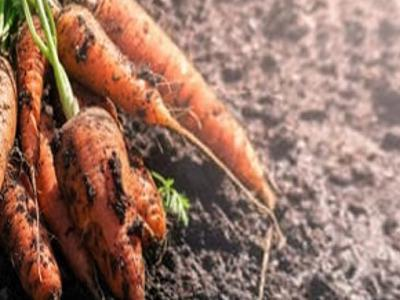carrot: (0, 3, 271, 300), (50, 106, 197, 298)
